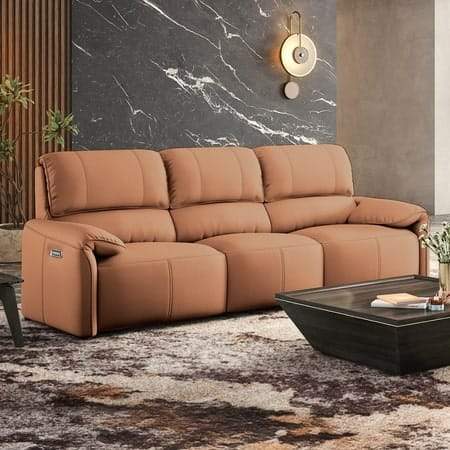3seatersofa: (23, 144, 427, 336)
backrest: (36, 145, 354, 242)
leftarmrest: (348, 198, 427, 229)
leg: (19, 223, 99, 338), (410, 212, 429, 236), (419, 242, 429, 274)
rightarmrest: (24, 220, 124, 256)
seat: (98, 225, 419, 330)
